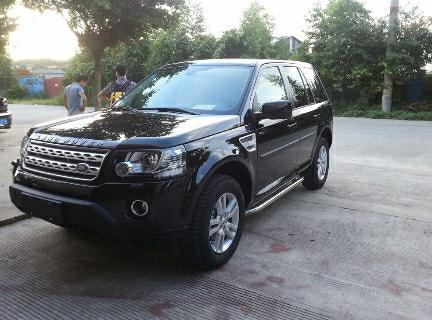MINI-JCWPACEMAN: (16, 60, 327, 261)
